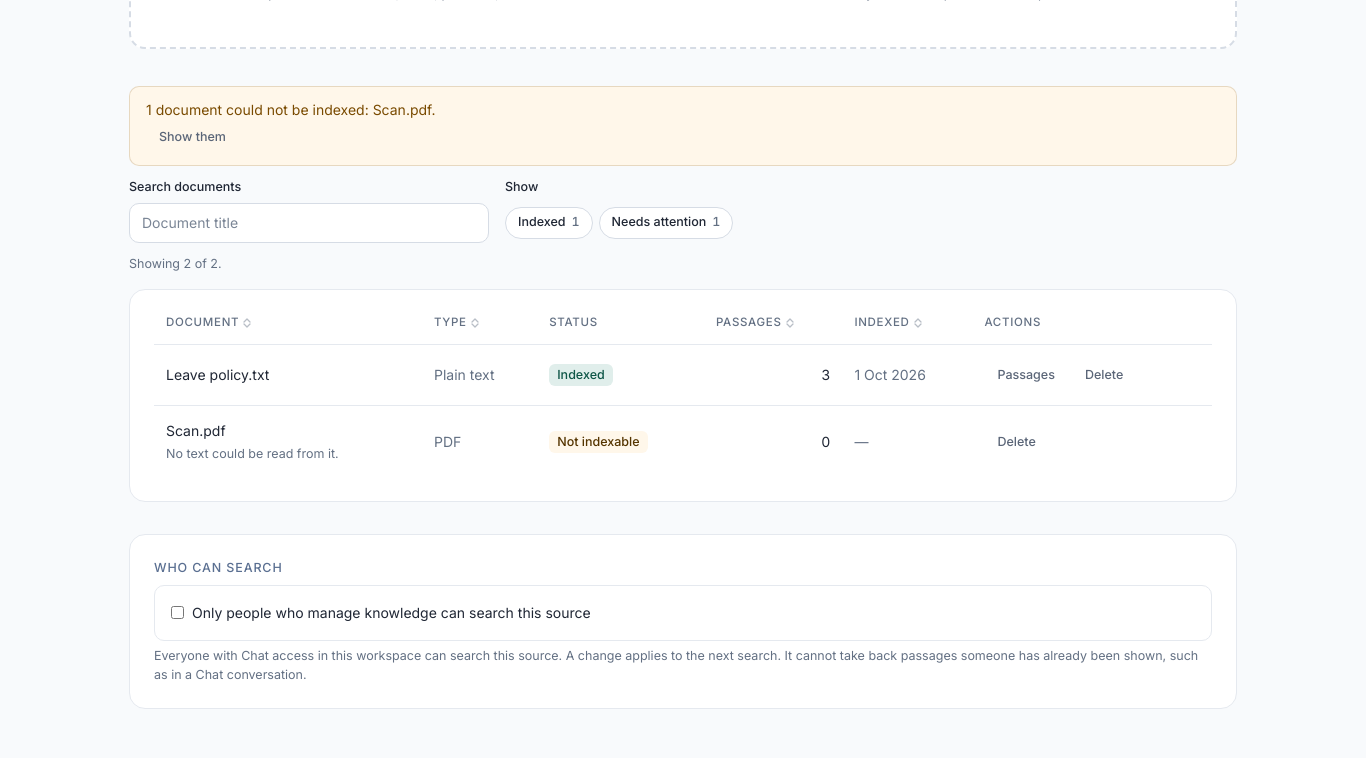
the passages of one document › shows the rest a page at a time
This screenshot has width=1366, height=758.
(page scrolled)
expect the text "Leave policy.txt" is shown: met, box x1=166 y1=366 x2=269 y2=383
What coordinates should you click on to do the following:
click the button with aria-label "View passages in Leave policy.txt"
I would click on:
 (1026, 374)
Its box is x1=984 y1=358 x2=1068 y2=390.
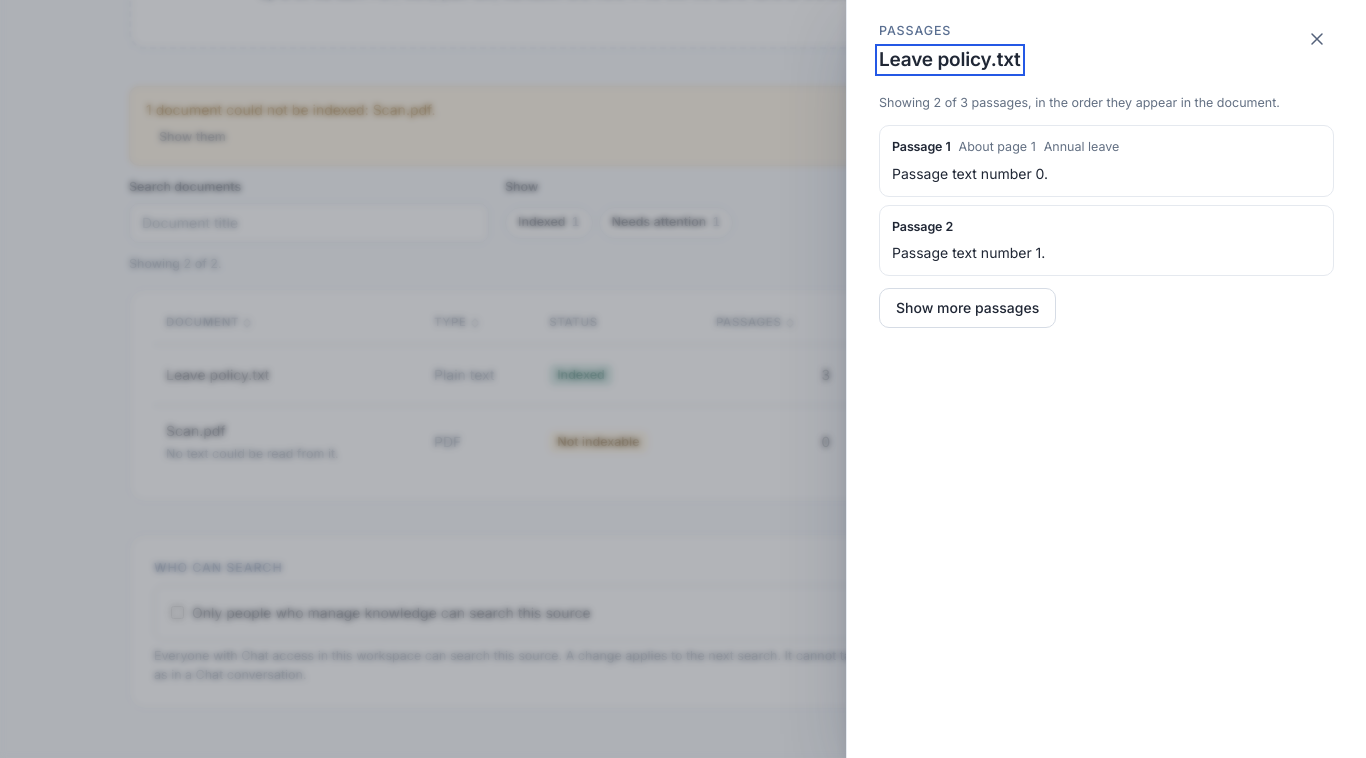
expect the text "Passage 2" is shown: met, box x1=892 y1=218 x2=953 y2=236
What coordinates should you click on to do the following:
click the button "Show more passages"
I would click on:
 (968, 308)
Its box is x1=879 y1=288 x2=1056 y2=328.
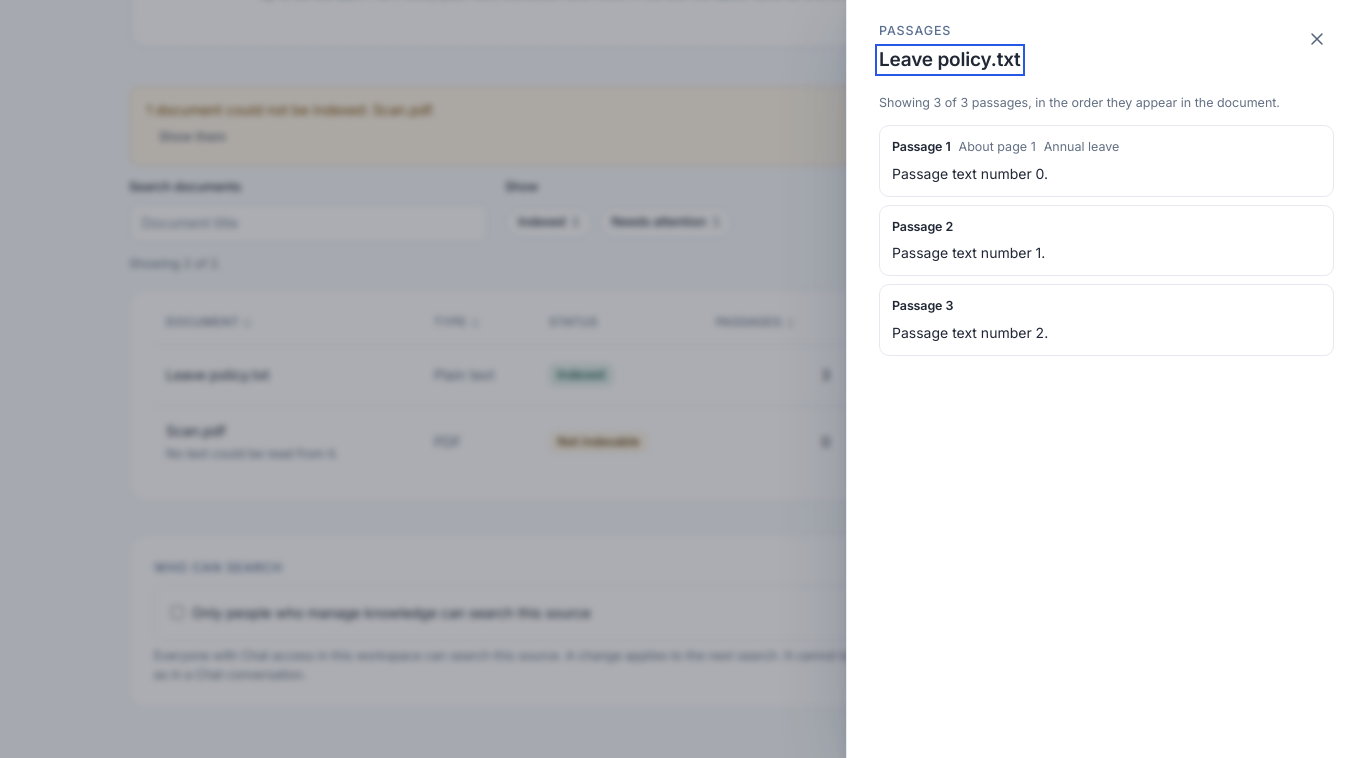
expect the text "Passage 3" is shown: met, box x1=892 y1=297 x2=953 y2=316
expect the text "Showing 3 of 3 passages, in the order they appear in the document." is shown: met, box x1=879 y1=94 x2=1334 y2=113
expect the button "Show more passages" is gone: met
